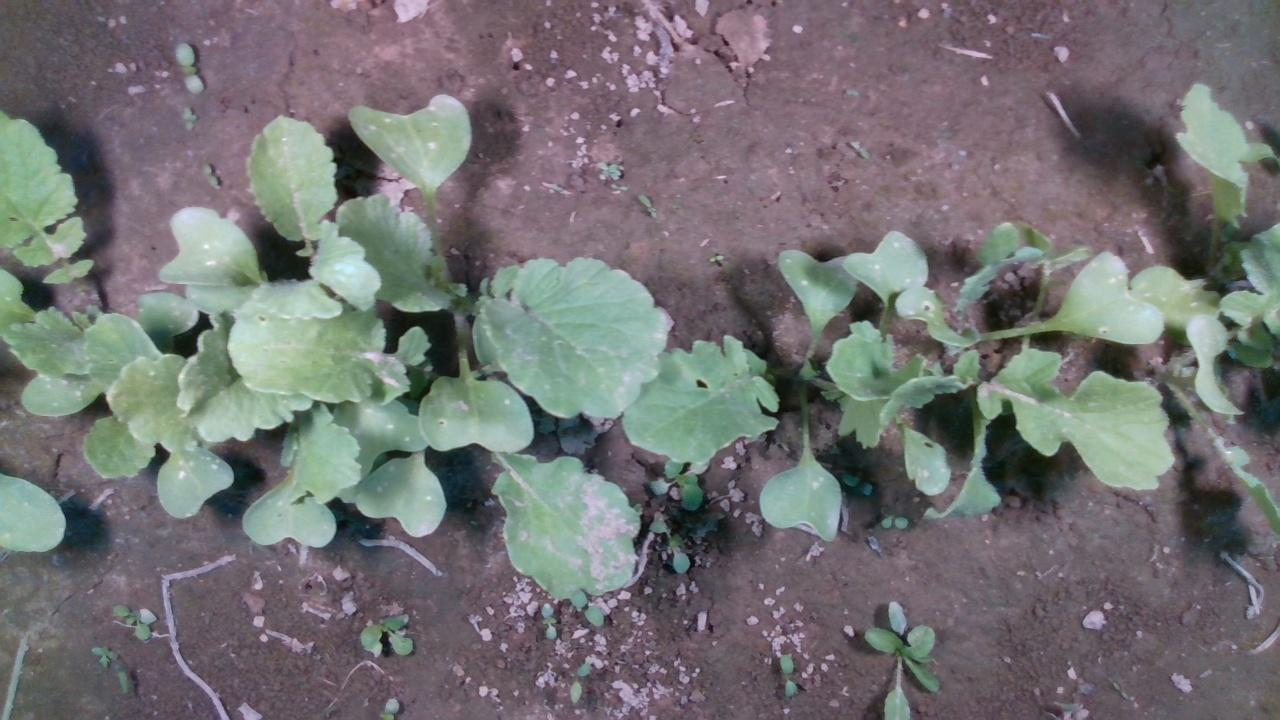weed: (173, 40, 205, 94), (109, 604, 151, 640), (568, 659, 592, 701), (778, 653, 798, 697), (540, 601, 557, 640), (200, 160, 220, 190), (637, 191, 656, 219), (179, 104, 198, 130), (707, 251, 723, 263)
